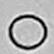no answer: (2, 11, 49, 50)
